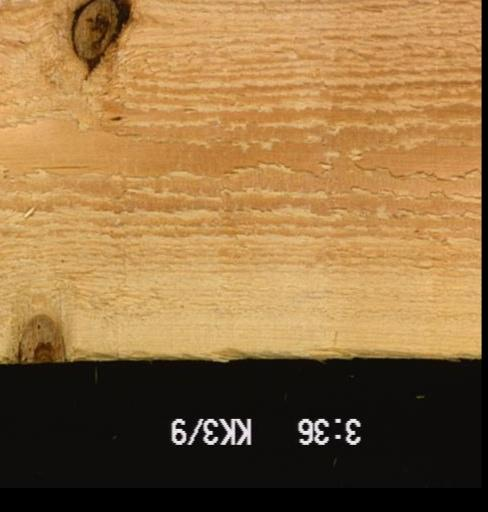edge_knot: (13, 312, 67, 361)
wave: (71, 346, 479, 362)
